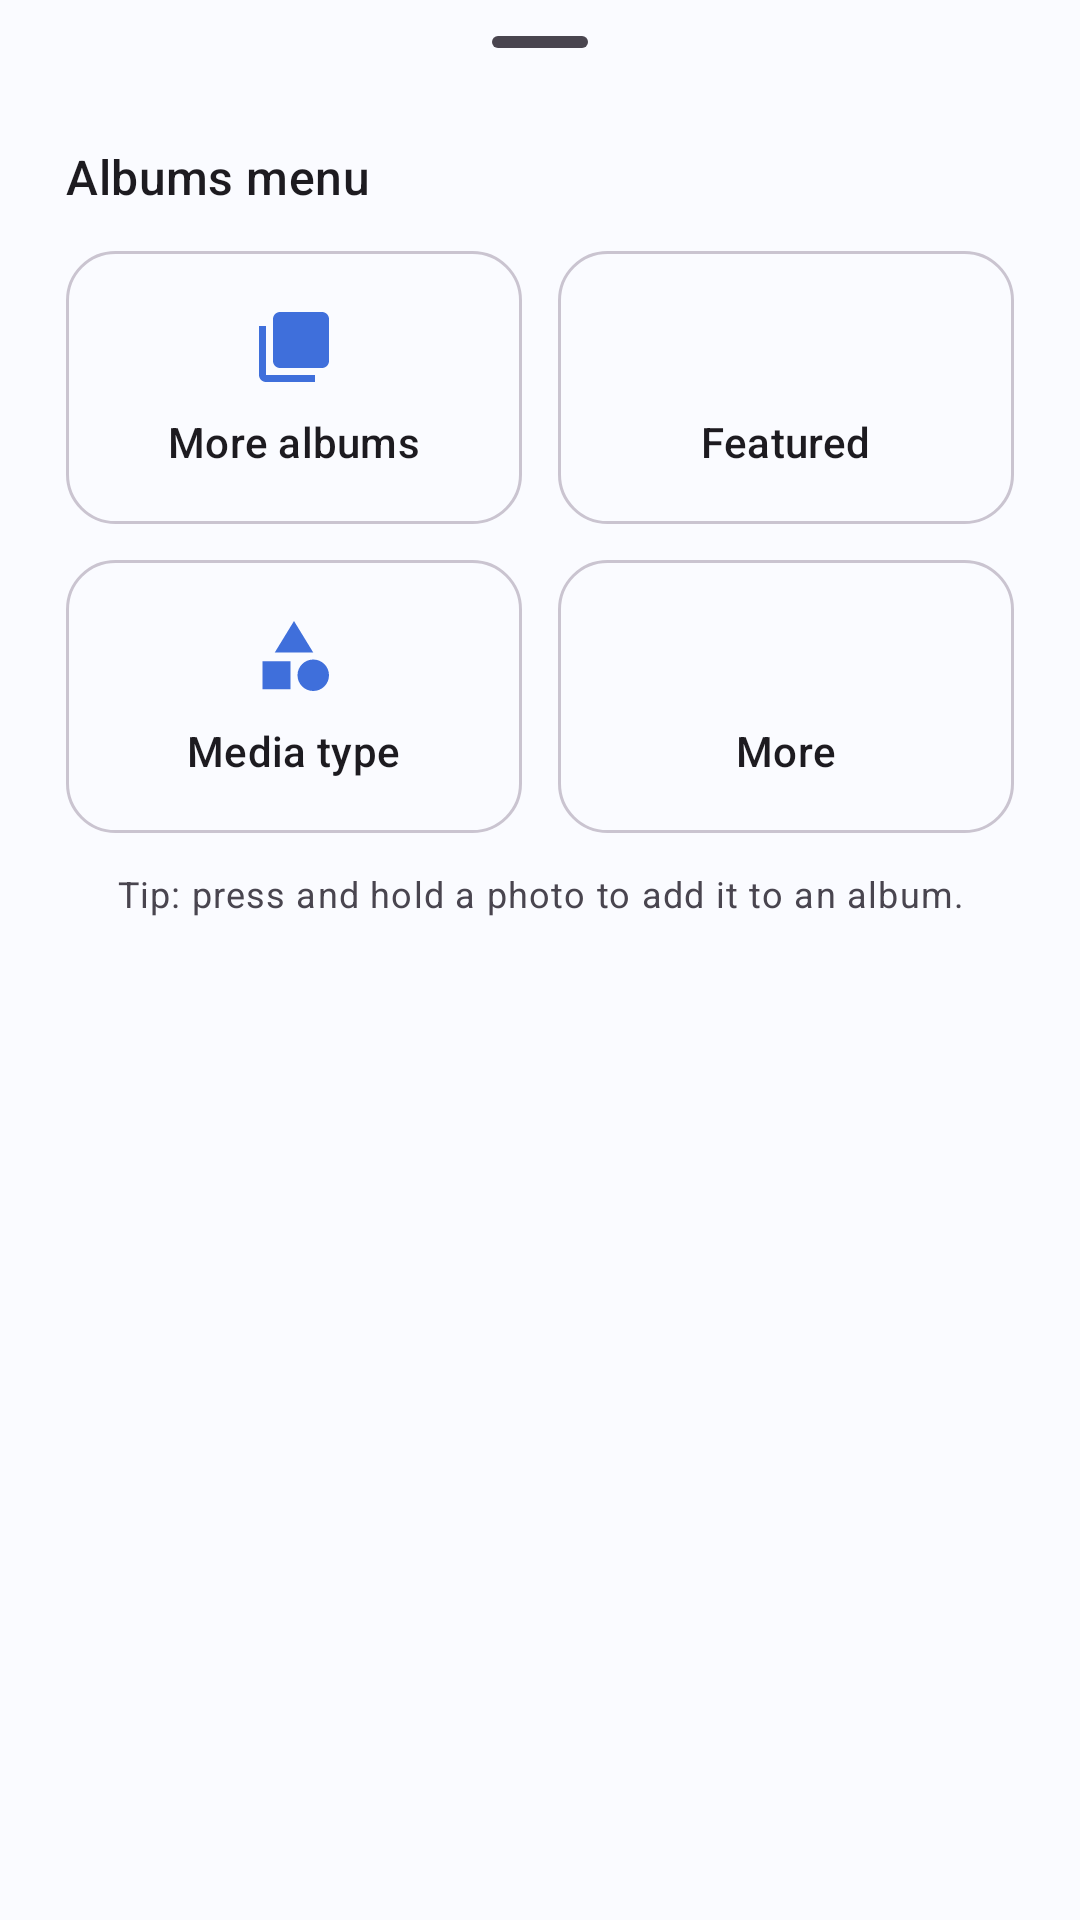

Where icons sit on this 1080w x 1920h app screen, as {"left": x1, "top": y1, "right": x2, "bottom": y2}:
category: {"left": 262, "top": 621, "right": 329, "bottom": 691}
